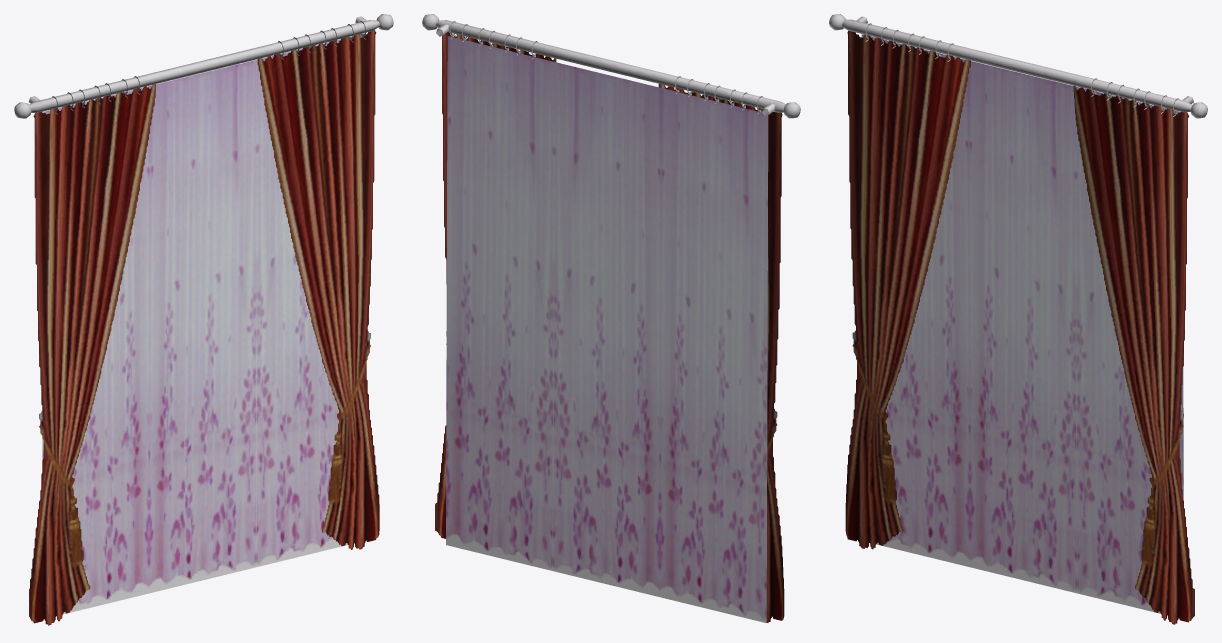
The model's file is furni_0200761.FBX.
The picture shows the model from 3 angles, left to right: view 1: azimuth 30°, elevation 25°; view 2: azimuth 150°, elevation 25°; view 3: azimuth 330°, elevation 25°; orthographic projection.
Visible parts, largest first — view 1: furni_0200761; view 2: furni_0200761; view 3: furni_0200761.
Boxes of the visible parts, x1,y1,x2,y2 form: furni_0200761: (14, 14, 393, 625); furni_0200761: (422, 14, 800, 623); furni_0200761: (829, 14, 1207, 624).
Bounding box in the file's own units: 189 × 252 × 11.26.
2 materials, 2 textured.
